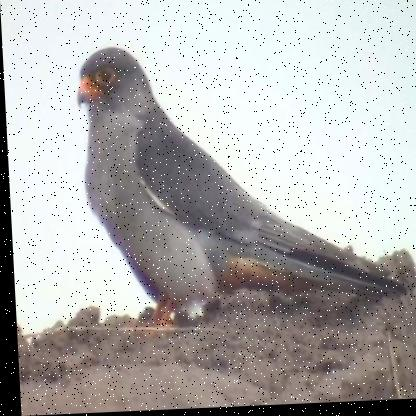Burung: (73, 34, 408, 333)
